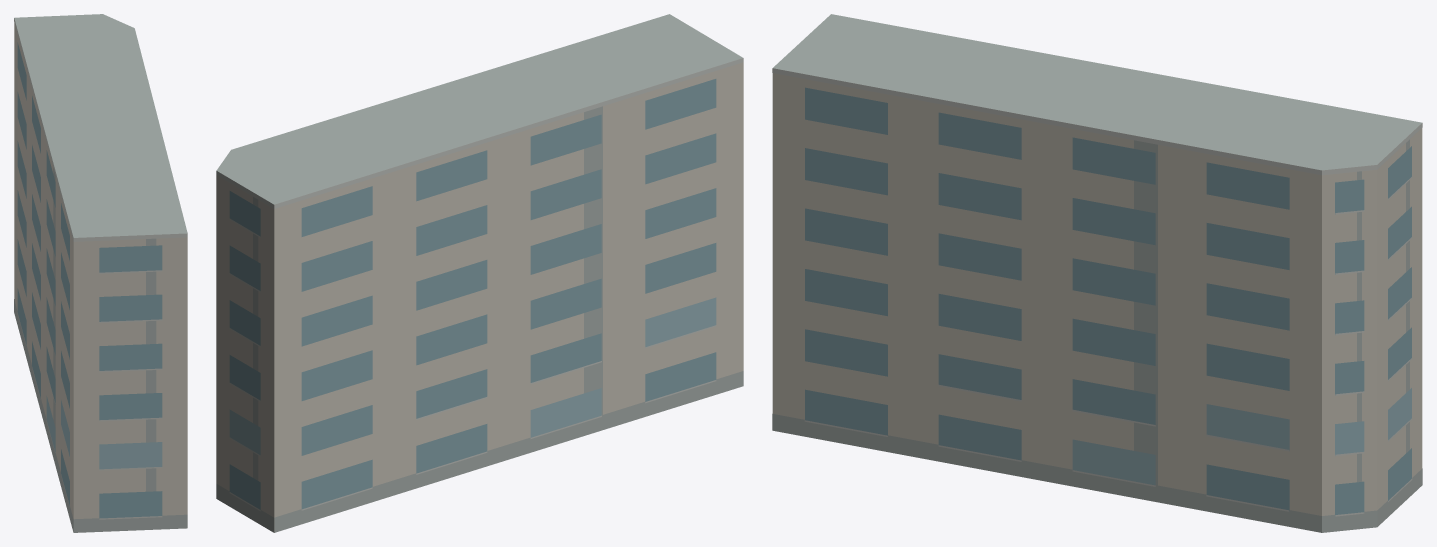
File: survey-upis-32871088.glb
3 views of the same model, side by side, from view 1: azimuth 30°, elevation 25°; view 2: azimuth 150°, elevation 25°; view 3: azimuth 270°, elevation 25° (orthographic). The views are drawn at different scales.
Visible parts, largest first — view 1: survey-upis-32871088.tmp; view 2: survey-upis-32871088.tmp; view 3: survey-upis-32871088.tmp.
Boxes of the visible parts, bbox=[...] form: survey-upis-32871088.tmp: bbox=[14, 14, 187, 532]; survey-upis-32871088.tmp: bbox=[216, 14, 743, 532]; survey-upis-32871088.tmp: bbox=[772, 14, 1422, 532].
Bounding box in the file's own units: 16.95 × 18.3 × 29.75.
